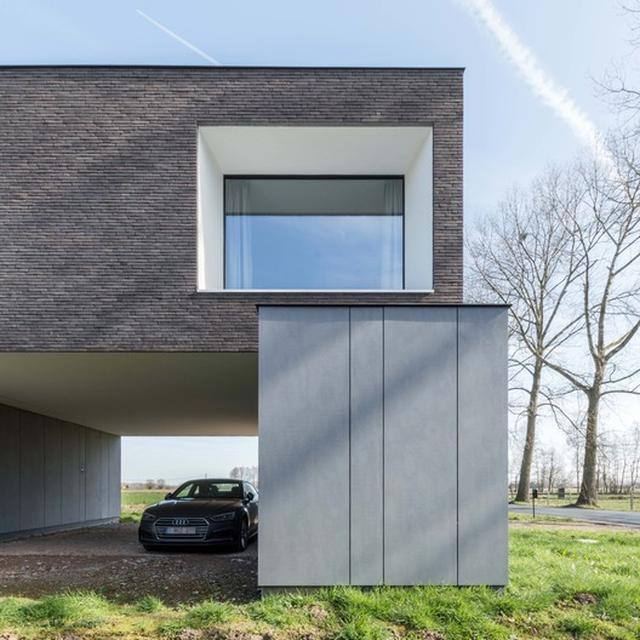building: (0, 60, 516, 593)
